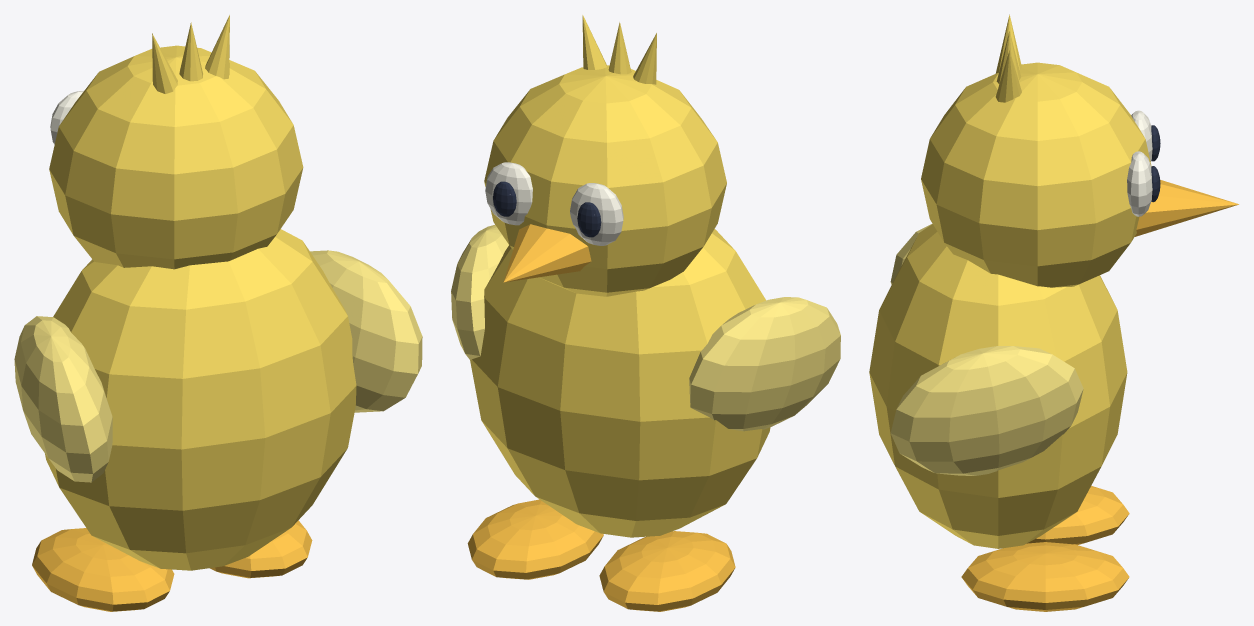
File: Species_1.fbx
3 views of the same model, side by side, from view 1: azimuth 30°, elevation 25°; view 2: azimuth 150°, elevation 25°; view 3: azimuth 270°, elevation 25° (orthographic). The views are drawn at different scales.
Visible parts, largest first — view 1: Body, Head, WingL, WingR, Foot, Foot.001, Crest, Crest.002, Crest.001, EyeL; view 2: Body, Head, WingL, Foot, Foot.001, WingR, Beak, EyeL, EyeR, Crest.002, Crest, PupilL (+2 smaller); view 3: Body, Head, WingR, Foot.001, Foot, Beak, EyeR, Crest.002.
Part boxes in pixels (x1,y1,x2,y2): Body: (45,229,356,570); Head: (49,45,303,269); WingL: (14,316,112,482); WingR: (310,250,422,412); Foot: (32,528,174,611); Foot.001: (210,520,312,578); Crest: (152,33,177,93); Crest.002: (205,15,229,79); Crest.001: (179,22,202,81); EyeL: (50,91,83,144); Body: (470,229,770,537); Head: (484,65,726,296); WingL: (689,297,840,431); Foot: (599,531,735,611); Foot.001: (467,499,603,579); WingR: (451,225,508,360); Beak: (503,224,591,282); EyeL: (570,183,623,245); EyeR: (485,162,532,225); Crest.002: (582,15,606,69); Crest: (633,33,656,84); PupilL: (577,202,601,237); Body: (869,224,1127,548); Head: (921,62,1151,287); WingR: (890,346,1083,475); Foot.001: (961,542,1129,611); Foot: (1027,486,1129,544); Beak: (1135,180,1238,236); EyeR: (1127,151,1152,216); Crest.002: (995,50,1021,102).
Bounding box in the file's own units: 358 × 529 × 330.
